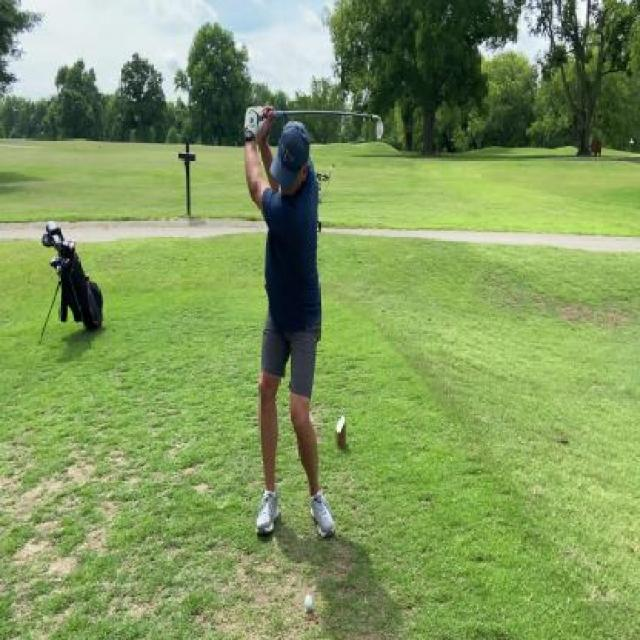club head: (370, 114, 384, 141)
